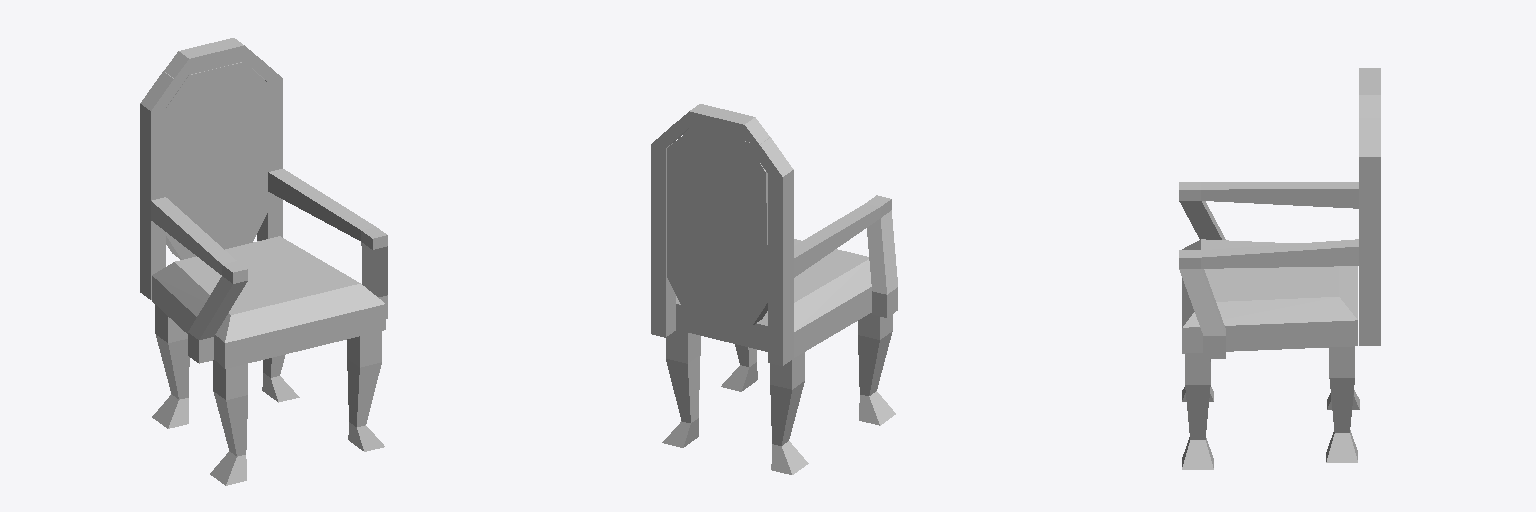
The model's file is chair 2ndtry.obj.
3 renders of one model, left to right at view 1: azimuth 30°, elevation 25°; view 2: azimuth 150°, elevation 25°; view 3: azimuth 270°, elevation 25°, orthographic.
Visible parts, largest first — view 1: Cushion, Backrest, ArmrestL, ArmrestR, leg, leg1, leg3, Toprest, leg2; view 2: Backrest, ArmrestL, Cushion, ArmrestR, leg3, leg2, leg, Toprest, leg1; view 3: Cushion, ArmrestR, ArmrestL, leg2, leg1, Toprest.
Part boxes in pixels (x1,y1,x2,y2): Cushion: (152,236,385,368); Backrest: (166,62,267,259); ArmrestL: (140,71,247,363); ArmrestR: (245,58,387,318); leg: (210,360,247,485); leg1: (347,331,384,451); leg3: (152,304,189,428); Toprest: (164,38,258,78); leg2: (262,354,299,402); Backrest: (667,128,767,325); ArmrestL: (745,137,897,365); Cushion: (676,239,871,357); ArmrestR: (651,124,688,337); leg3: (770,352,808,474); leg2: (662,330,700,447); leg: (858,313,895,425); Toprest: (675,104,769,144); leg1: (721,344,757,391); Cushion: (1182,239,1357,353); ArmrestR: (1179,118,1380,358); ArmrestL: (1179,182,1358,239); leg2: (1326,346,1357,462); leg1: (1182,353,1213,469); Toprest: (1359,68,1380,117).
Bounding box in the file's own units: 52.64 × 93.81 × 49.12.